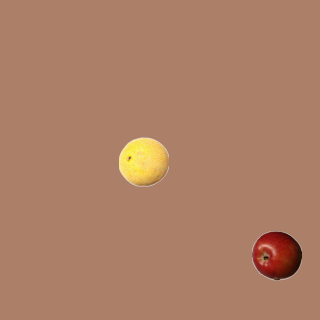Apple Braeburn: (251, 230, 301, 280)
Cantaloupe 1: (118, 136, 168, 186)
